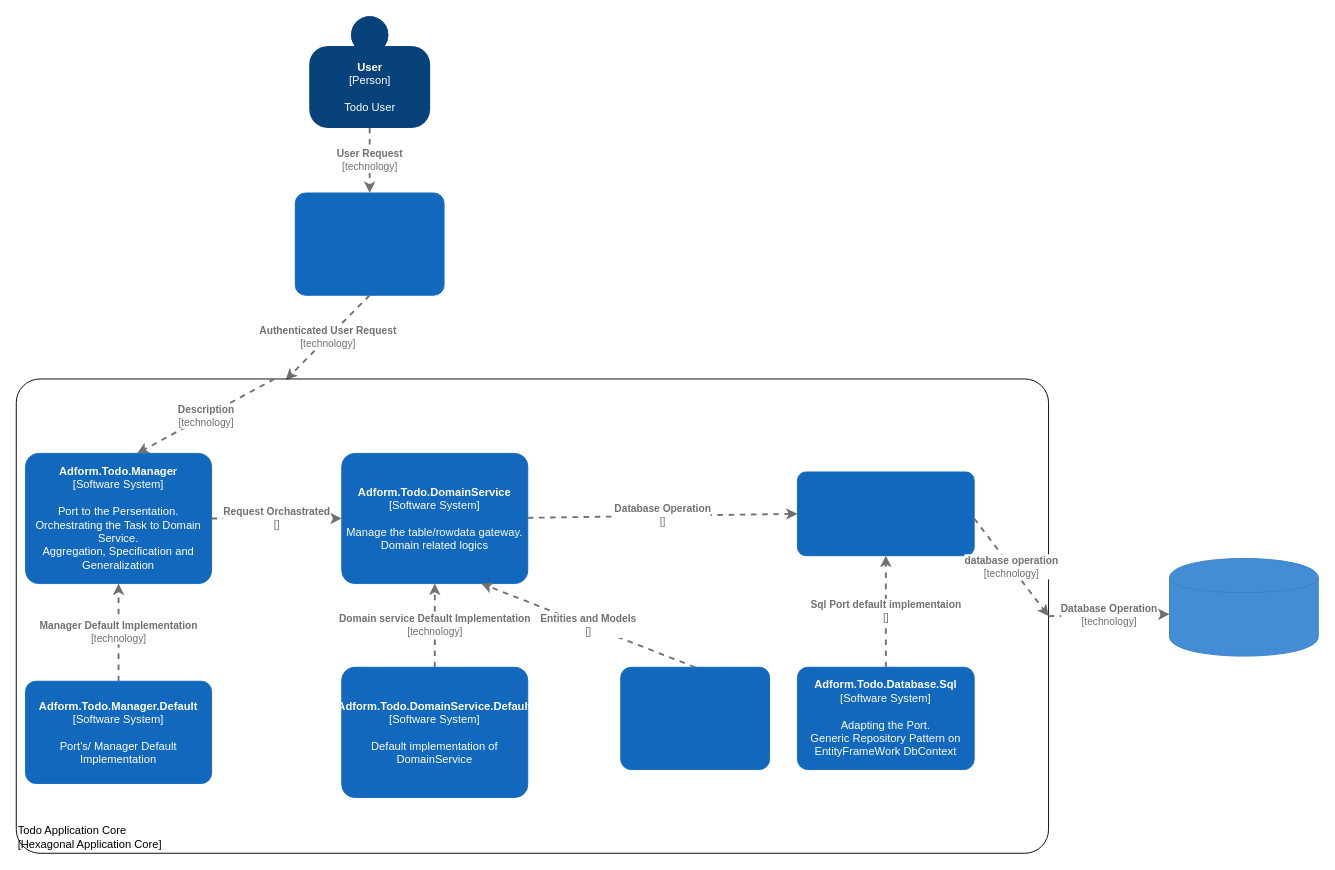
Some shapes in this 1335 by 870 pixel diagram are drawn without their labels. Here are the shapes that lost their labels. From the top down, the centre of each, then its label:
the point at 369,243: Adform.Todo.Api [Software System] .Net Core Api
the point at 885,513: Adform.Todo.Database [Software System] Port to adapt the database.
the point at 1243,607: Database [Container: Sql Server] Todo Database
the point at 695,718: Adform.Todo.Model [Software System] Contains Entity and Models
